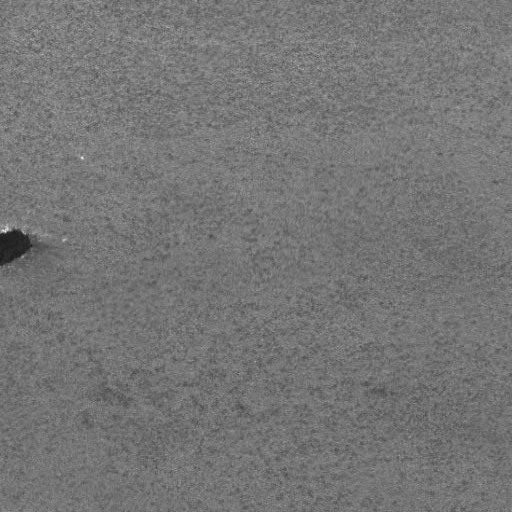aokeng: (1, 226, 35, 270)
